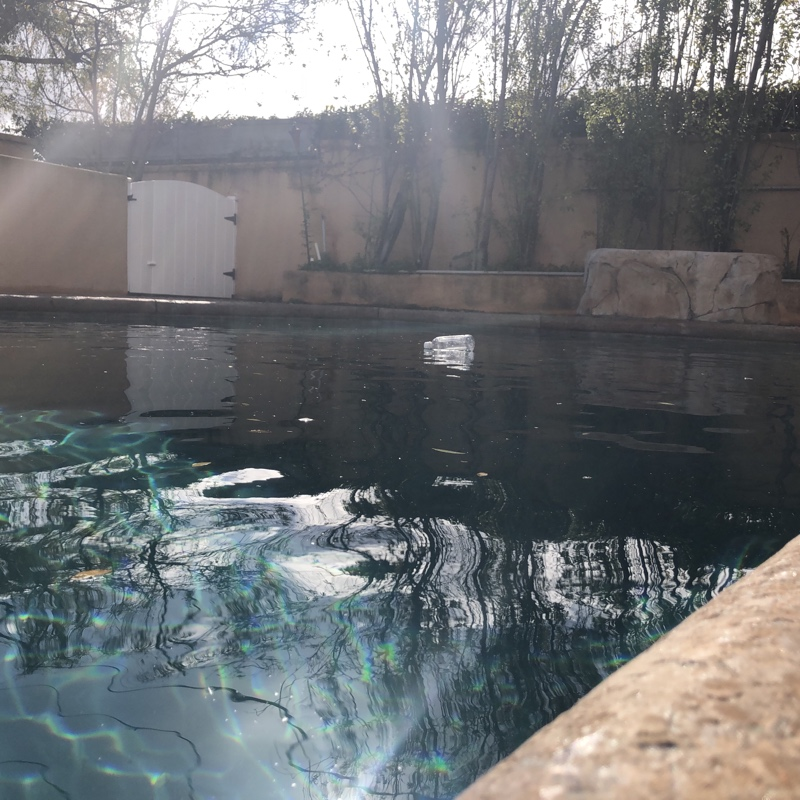Plastic Bottle: (421, 335, 474, 351)
